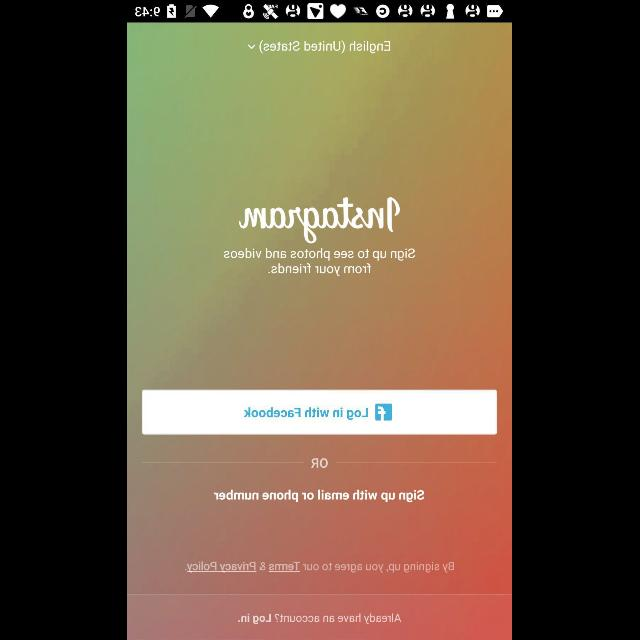image: (239, 198, 401, 245)
spinner: (248, 40, 390, 54)
text: (224, 248, 416, 276), (185, 561, 455, 573), (214, 490, 426, 502), (312, 458, 328, 468)
textbutton: (128, 594, 512, 640), (142, 390, 498, 434)
uppertaskbar: (128, 1, 512, 23)
